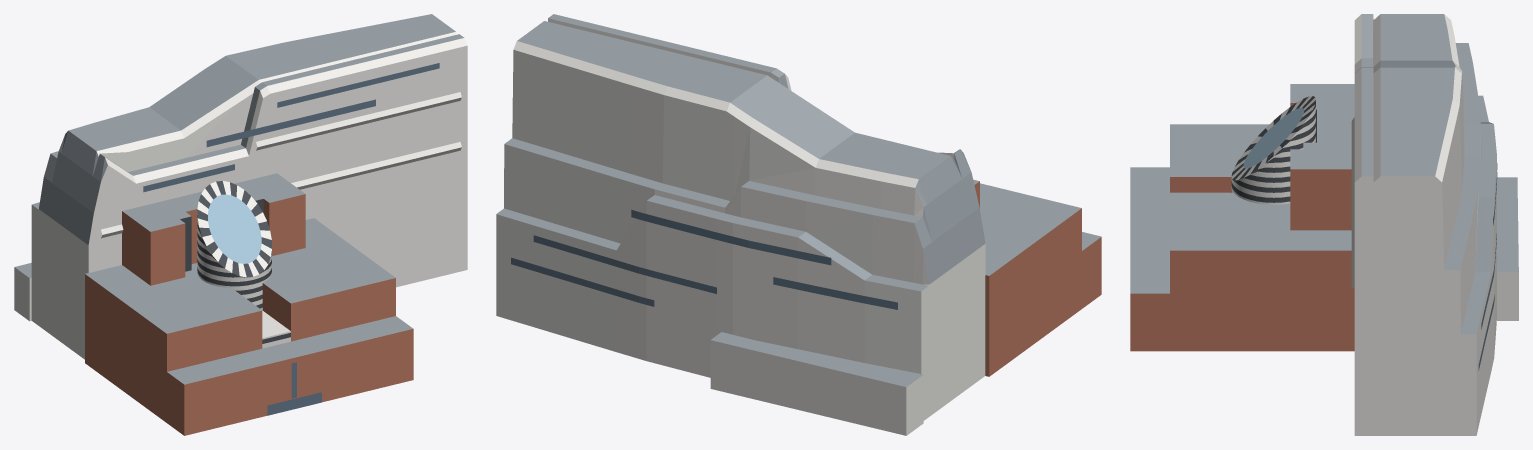
Rendered from sf-sfmoma.glb.
The picture shows the model from 3 angles, left to right: view 1: azimuth 30°, elevation 25°; view 2: azimuth 150°, elevation 25°; view 3: azimuth 270°, elevation 25°; orthographic projection. The views are drawn at different scales.
Visible parts, largest first — view 1: San Francisco Museum of Modern Art; view 2: San Francisco Museum of Modern Art; view 3: San Francisco Museum of Modern Art.
Boxes of the visible parts, x1,y1,x2,y2 form: San Francisco Museum of Modern Art: (14,14,467,435); San Francisco Museum of Modern Art: (496,14,1101,435); San Francisco Museum of Modern Art: (1130,14,1518,435).
Bounding box in the file's own units: 108 × 62.3 × 84.56.
